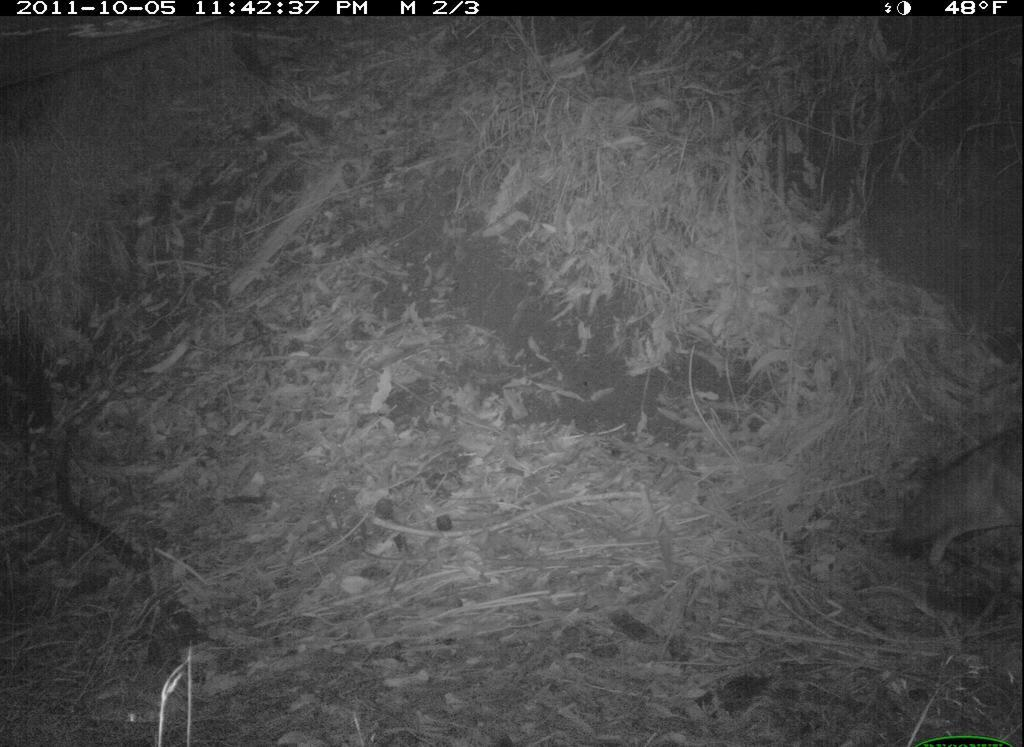coyote: (876, 400, 1023, 583)
